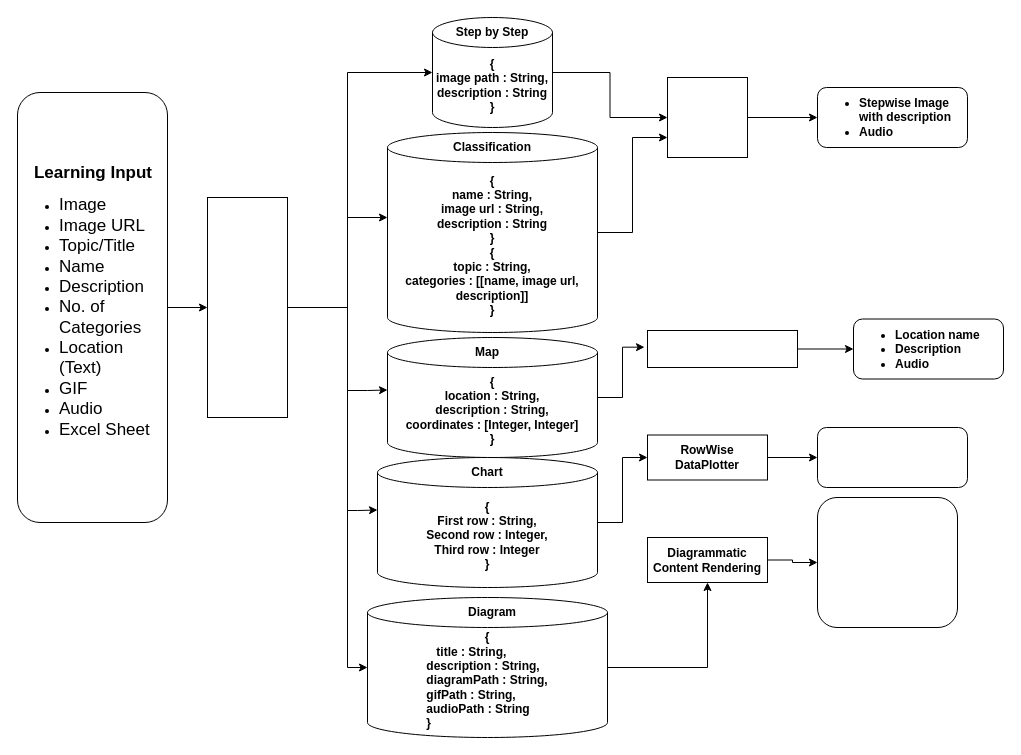
Image size: 1021x755. Some labels were removed from this diagram. Each missing label, with the centre of its shape:
2D plot diagram 3D plot diagram: point (892, 457)
Data Population: point (247, 307)
MapDisplayer: point (722, 349)
Page consists of Title Image Description GIF Audio: point (887, 562)
Play Sequence with TTS: point (707, 117)
